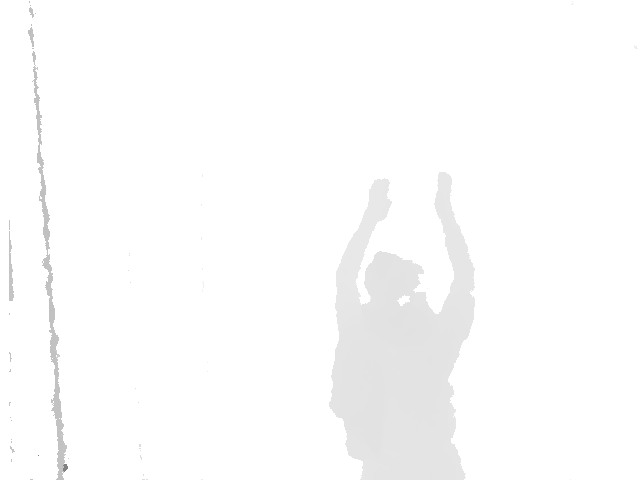hand: (366, 176, 391, 222), (432, 169, 454, 214)
head: (363, 249, 430, 312)
person: (334, 169, 476, 480)
